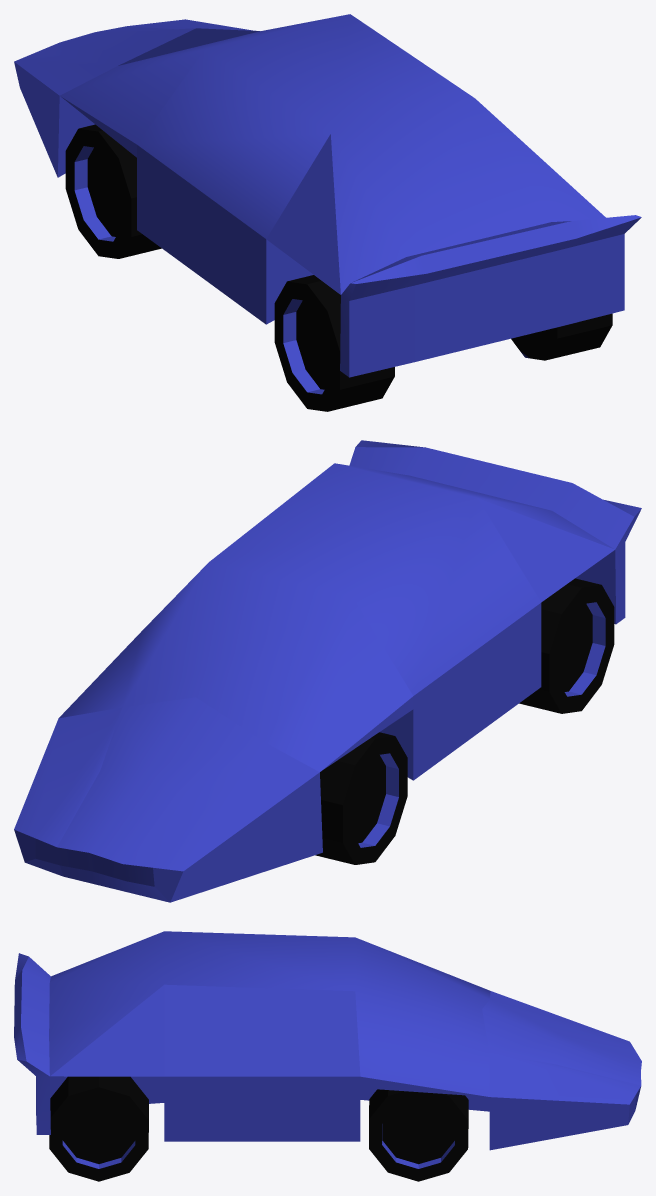
Rendered from updatezoom.fbx.
3 renders of one model, top to bottom at view 1: azimuth 30°, elevation 25°; view 2: azimuth 150°, elevation 25°; view 3: azimuth 270°, elevation 25°, orthographic. The views are drawn at different scales.
Visible parts, largest first — view 1: pCylinder4; view 2: pCylinder4; view 3: pCylinder4.
Part boxes in pixels (box(x1,y1,x2,y2)): pCylinder4: box(14, 14, 641, 411); pCylinder4: box(14, 440, 641, 902); pCylinder4: box(14, 931, 641, 1181).
Bounding box in the file's own units: 3.69 × 2.85 × 9.3.
